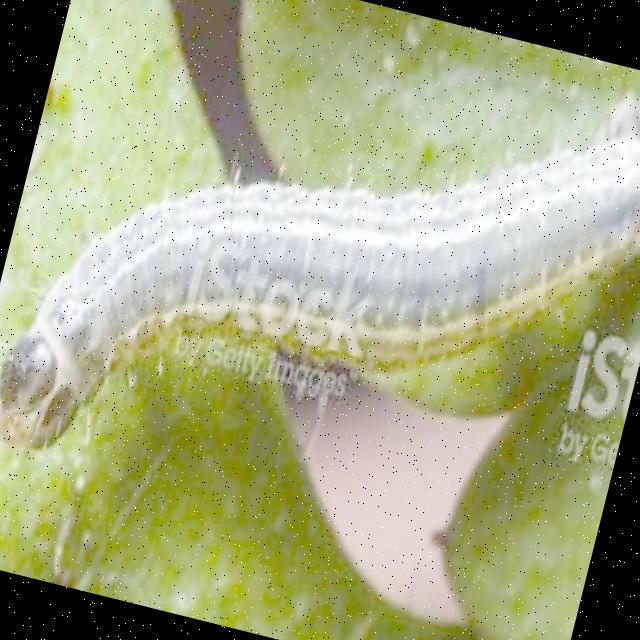worm: (1, 1, 640, 591)
